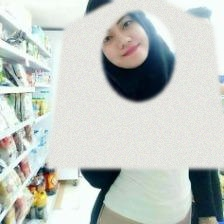Mukena: (47, 0, 224, 169)
